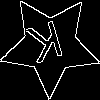K: (25, 20, 69, 73)
